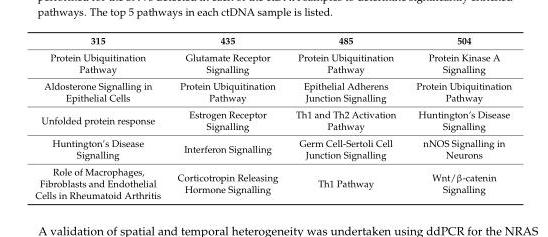table: (34, 34, 511, 200)
table column: (34, 34, 168, 200), (286, 34, 405, 200), (168, 34, 286, 200), (405, 34, 511, 200)
table column header: (34, 34, 511, 48)
table row: (34, 162, 511, 200), (34, 48, 511, 77), (34, 105, 511, 134), (34, 77, 511, 105), (34, 134, 511, 162), (34, 34, 511, 48)
